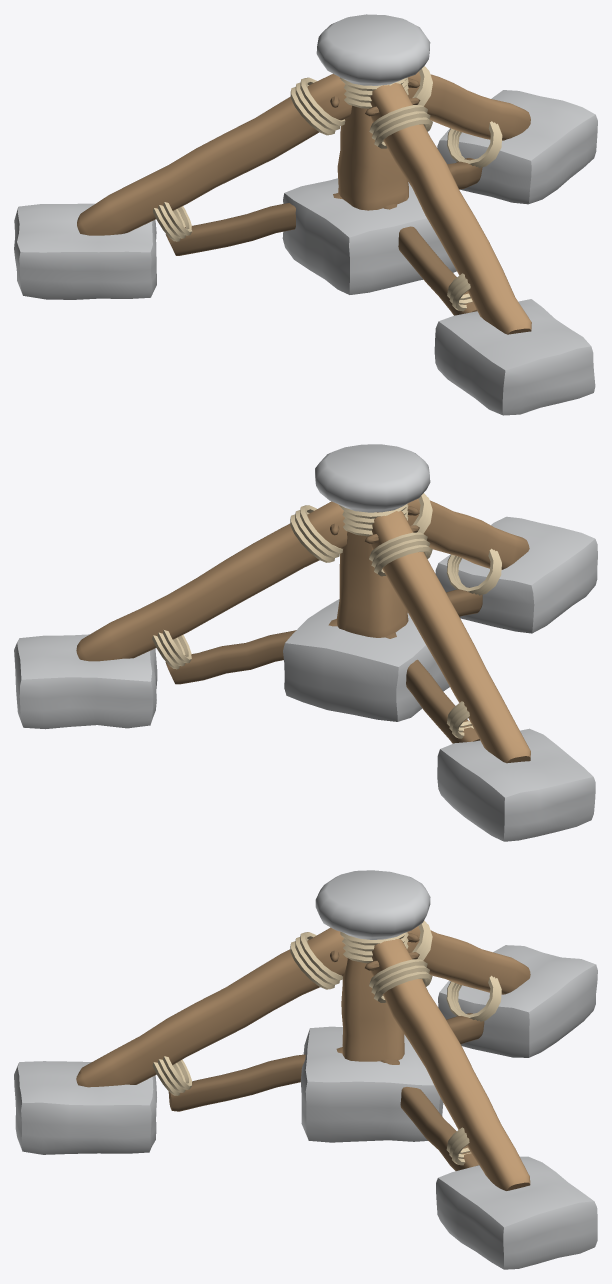
File: CrossbowStand.fbx
The picture shows the model from 3 angles, top to bottom: view 1: azimuth 30°, elevation 25°; view 2: azimuth 150°, elevation 25°; view 3: azimuth 270°, elevation 25°; orthographic projection.
Visible parts, largest first — view 1: CrossbowStand; view 2: CrossbowStand; view 3: CrossbowStand.
Boxes of the visible parts, x1,y1,x2,y2 form: CrossbowStand: (14, 14, 597, 415); CrossbowStand: (14, 444, 597, 841); CrossbowStand: (14, 870, 597, 1269).
Bounding box in the file's own units: 3.13 × 1.29 × 2.74.
